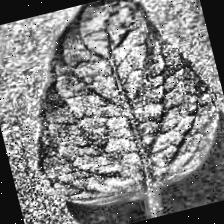spider mites: (1, 0, 224, 221)
